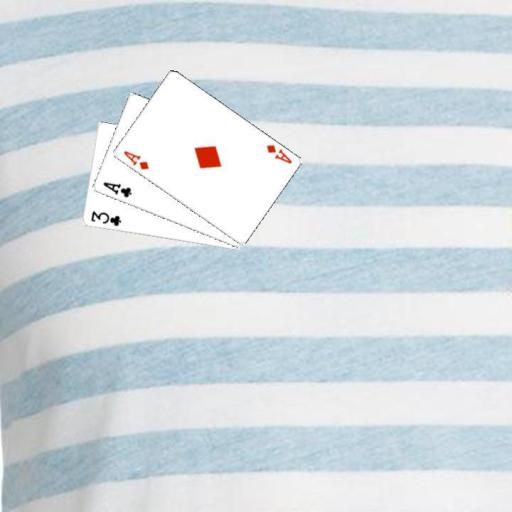3C: (88, 209, 123, 228)
AC: (100, 179, 133, 199)
AD: (120, 148, 150, 172), (263, 141, 293, 165)
